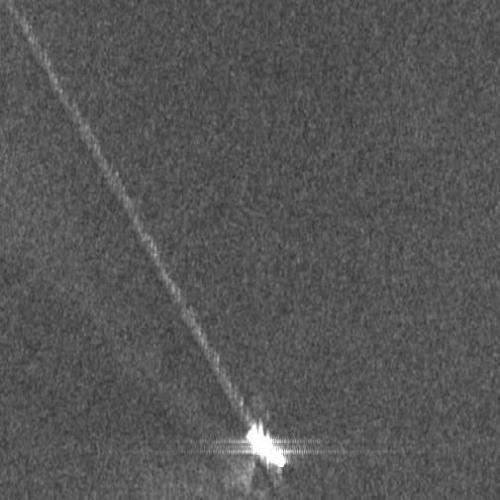ship: (246, 423, 288, 469)
